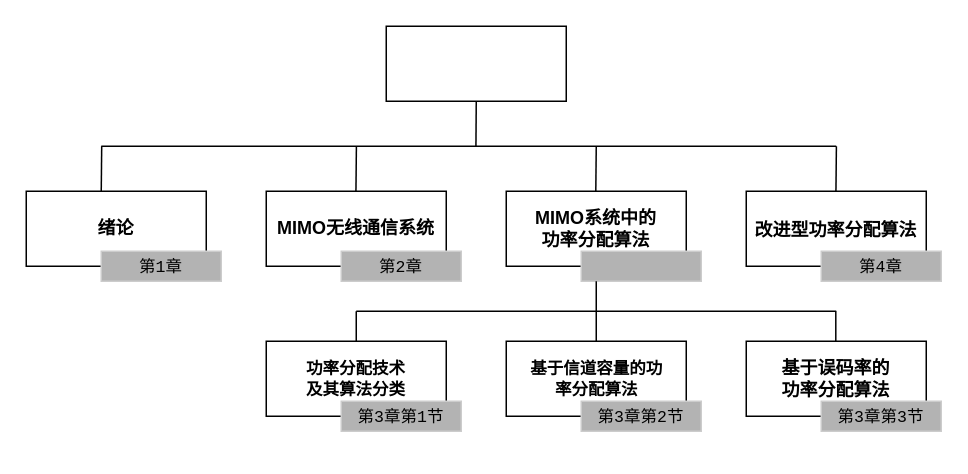
The diagram is 968 pixels wide and 474 high, and some of its shapes have lost their labels. The box of each missing label's shape, as (x1, y1, x2, y2) in pixels:
第3章: (580, 250, 701, 281)
论文: (385, 25, 566, 101)
